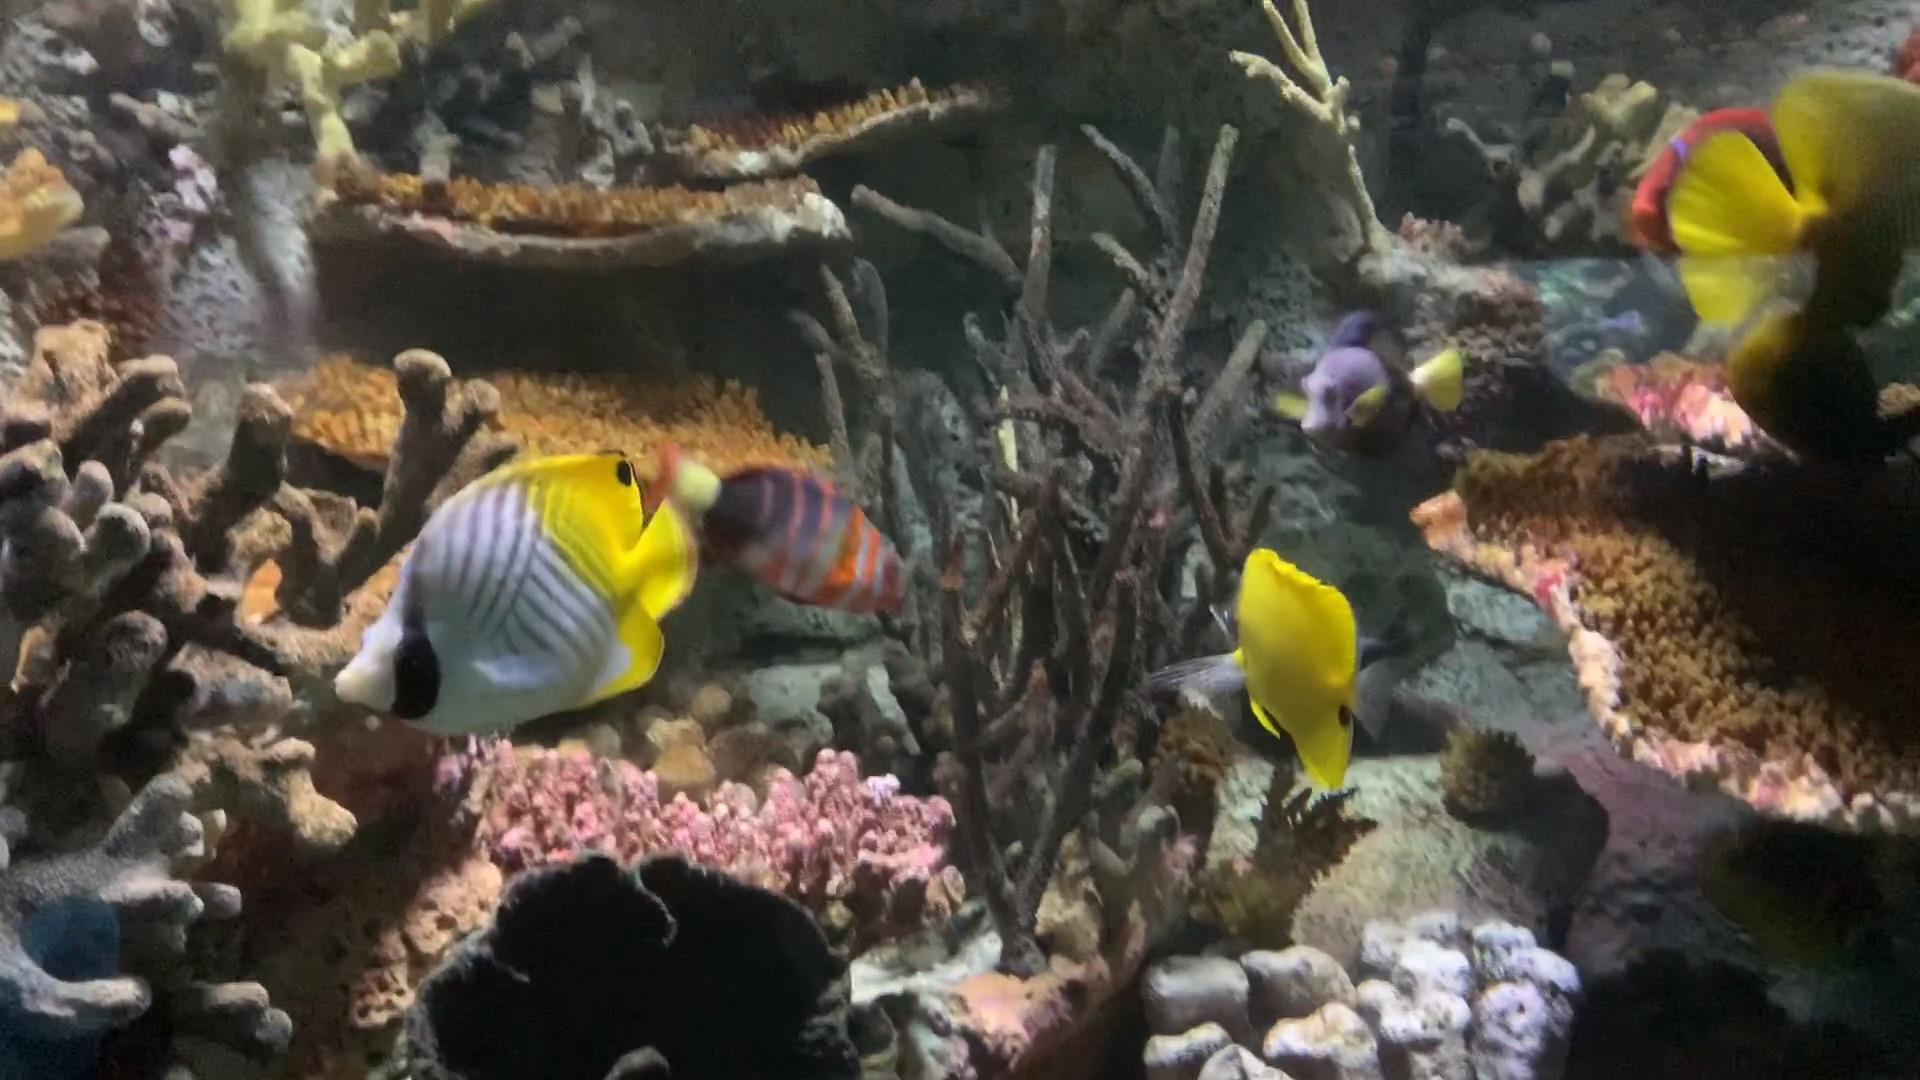fish: (332, 452, 699, 735), (1677, 70, 1920, 328), (690, 463, 911, 615), (1238, 547, 1362, 799), (1284, 310, 1466, 454), (1629, 105, 1796, 257)
